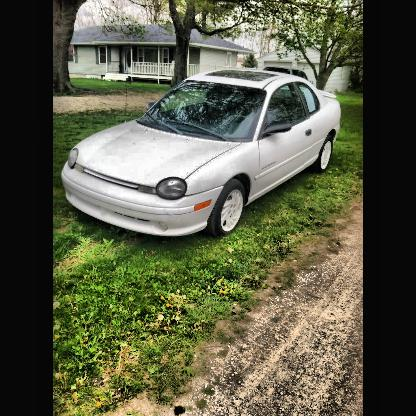Plymouth Neon Coupe 1999: (61, 68, 341, 247)
